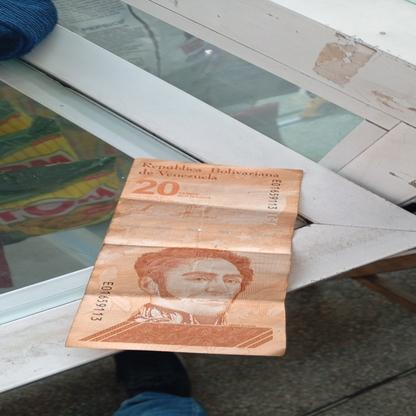vef_front: (57, 64, 258, 302)
